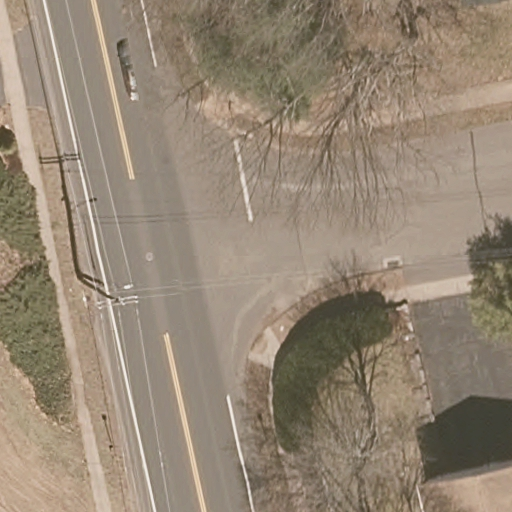DT: (96, 294, 139, 310)
